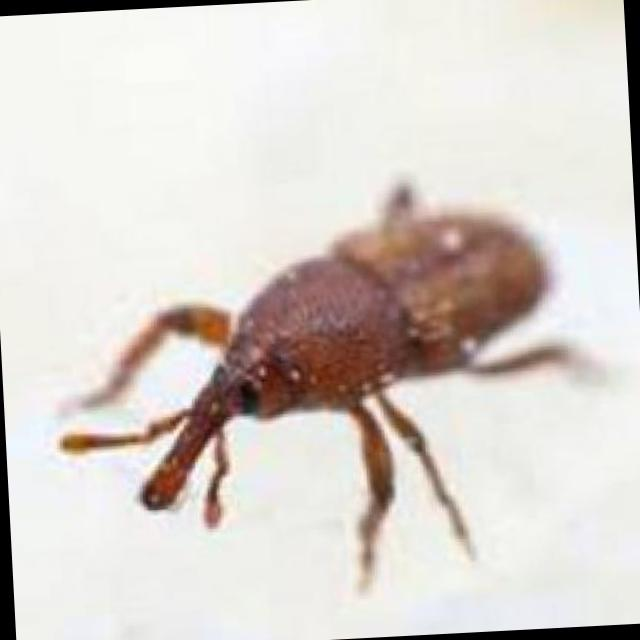rice-bug: (111, 195, 568, 570)
